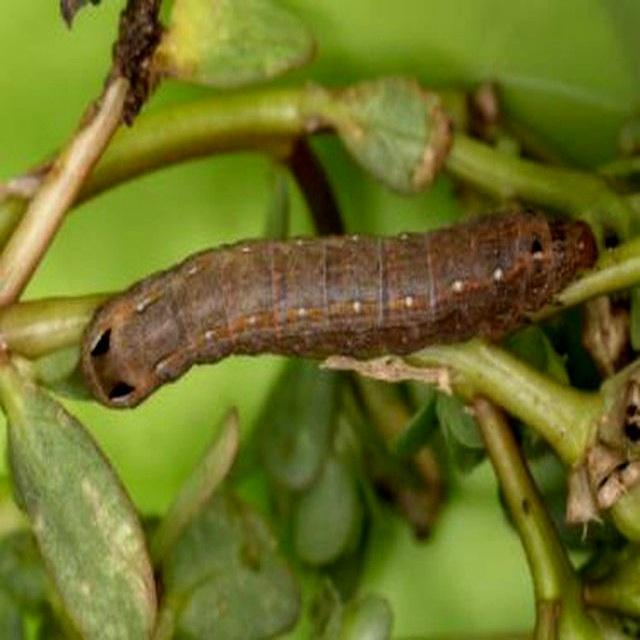gusano_cogollero: (72, 198, 602, 414)
